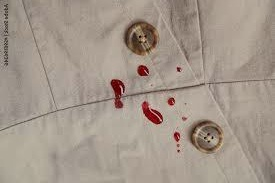blood: (110, 79, 126, 110)
